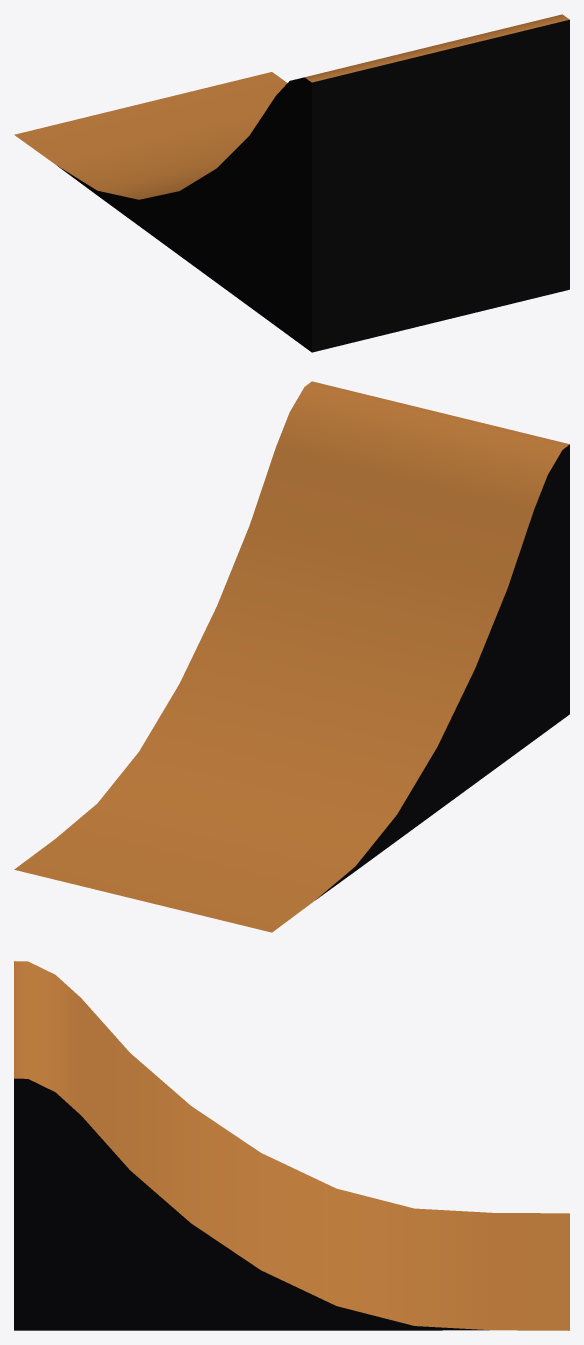
The model's file is Quater_LRG_Drop_Half.obj.
The picture shows the model from 3 angles, top to bottom: view 1: azimuth 30°, elevation 25°; view 2: azimuth 150°, elevation 25°; view 3: azimuth 270°, elevation 25°; orthographic projection. The views are drawn at different scales.
Parts seen in each view (by area): view 1: Quater_LRG_Drop_Half; view 2: Quater_LRG_Drop_Half; view 3: Quater_LRG_Drop_Half.
Part boxes in pixels (x1,y1,x2,y2): Quater_LRG_Drop_Half: [14, 14, 569, 352]; Quater_LRG_Drop_Half: [14, 381, 569, 932]; Quater_LRG_Drop_Half: [14, 961, 569, 1330].
Size of the model in its own units: 10 by 10.01 by 20.
